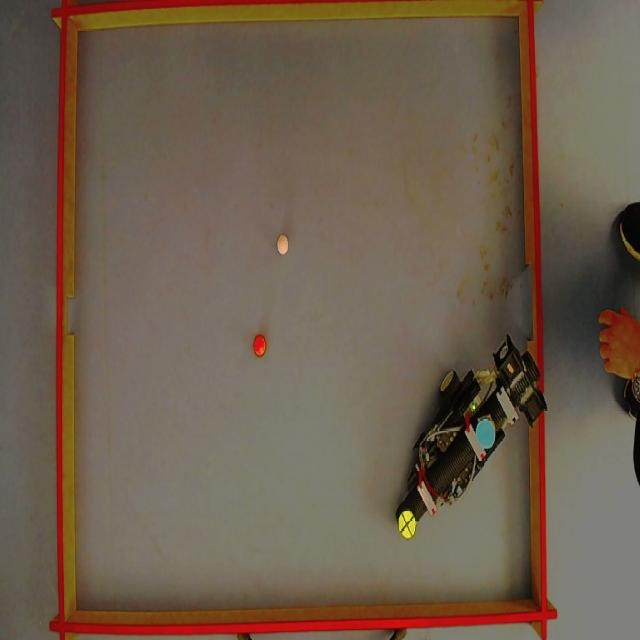orange: (253, 333, 267, 358)
robot: (393, 345, 544, 531)
robot-front: (398, 509, 416, 540)
robot-rear: (475, 414, 496, 454)
white: (278, 237, 290, 255)
